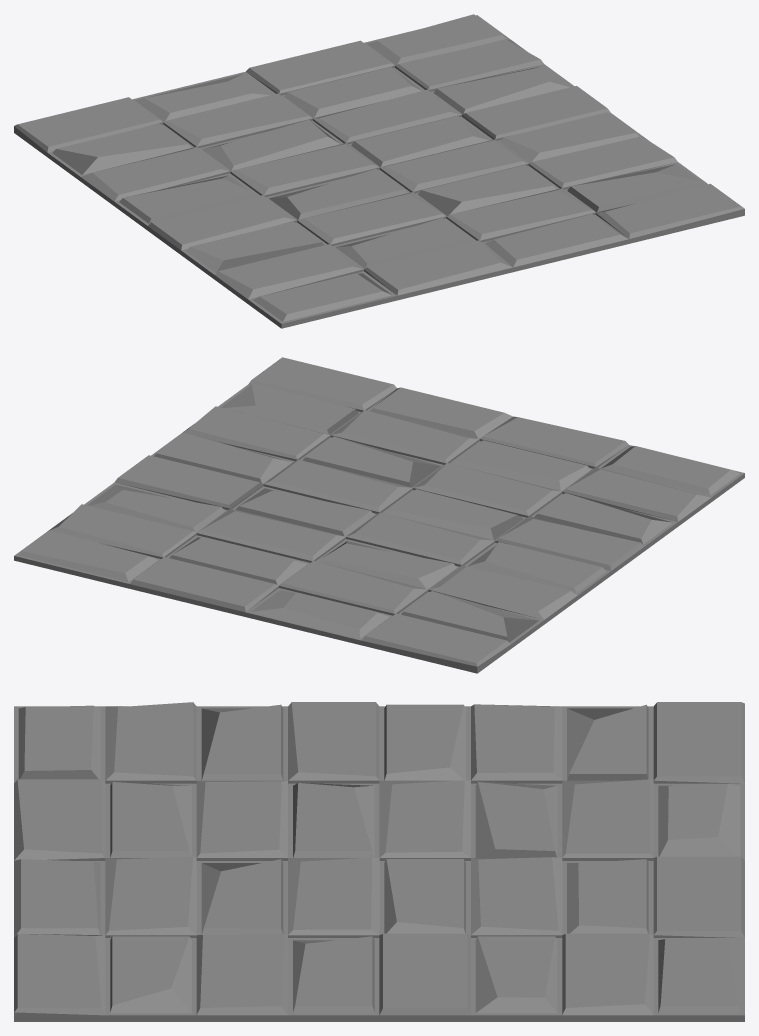
File: chão_padrão.fbx
3 renders of one model, top to bottom at view 1: azimuth 30°, elevation 25°; view 2: azimuth 150°, elevation 25°; view 3: azimuth 270°, elevation 25°, orthographic. The views are drawn at different scales.
Visible parts, largest first — view 1: Plane; view 2: Plane; view 3: Plane.
Part boxes in pixels (x1,y1,x2,y2): Plane: (14, 14, 744, 328); Plane: (14, 357, 744, 673); Plane: (14, 702, 744, 1021).
Size of the model in its own units: 2 by 0.0375 by 2.
